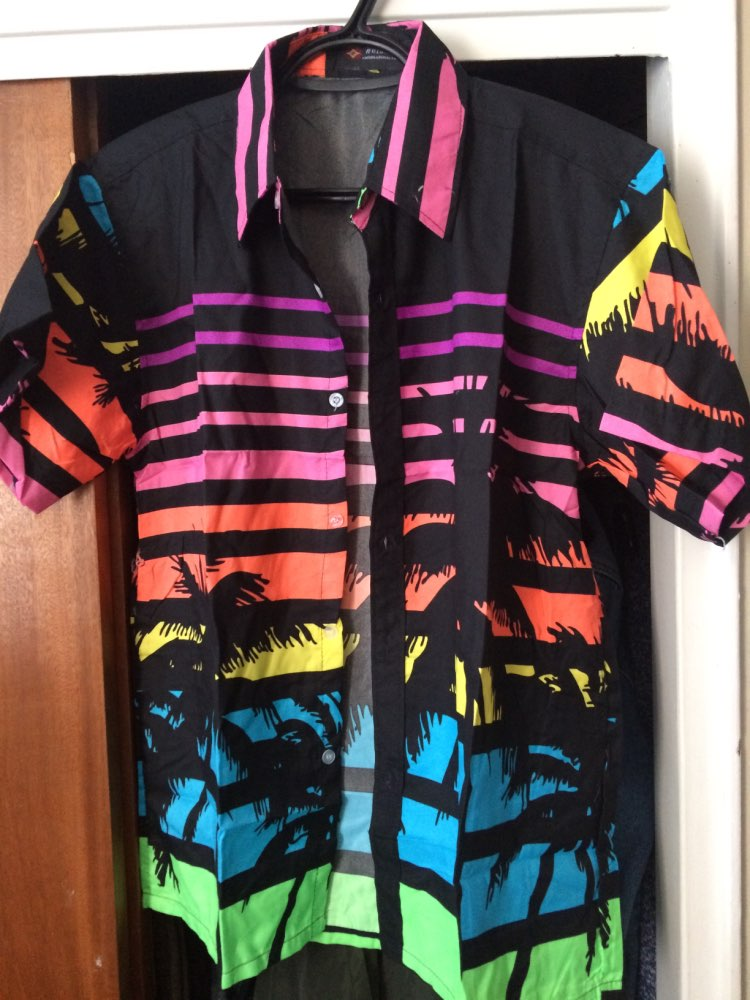shirts: (12, 16, 750, 982)
